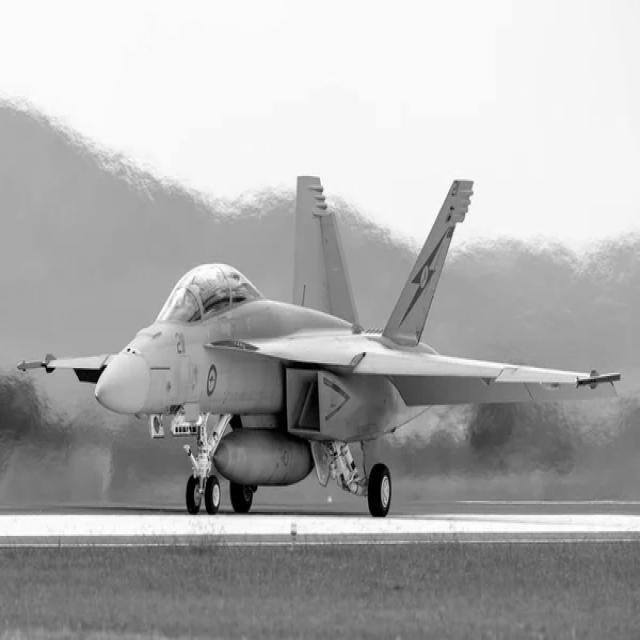Aircraft: (19, 165, 624, 511)
